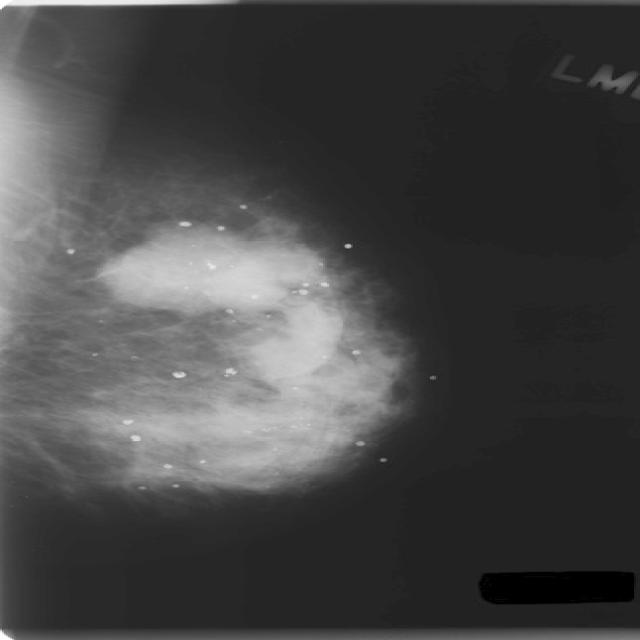tumour: (99, 225, 323, 312)
